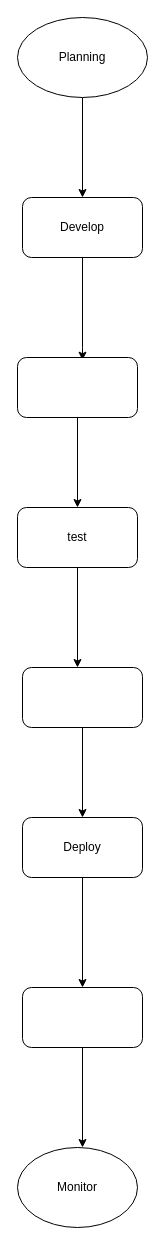
Some shapes in this 165 by 1245 pixel diagram are drawn without their labels. Each missing label, with the box of its shape:
Build: (16, 356, 138, 418)
Operate: (22, 986, 142, 1048)
release: (22, 666, 142, 728)
